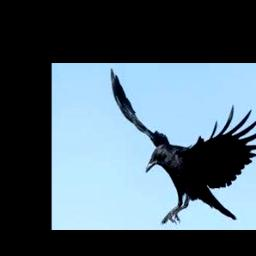Crow: (110, 68, 256, 226)
